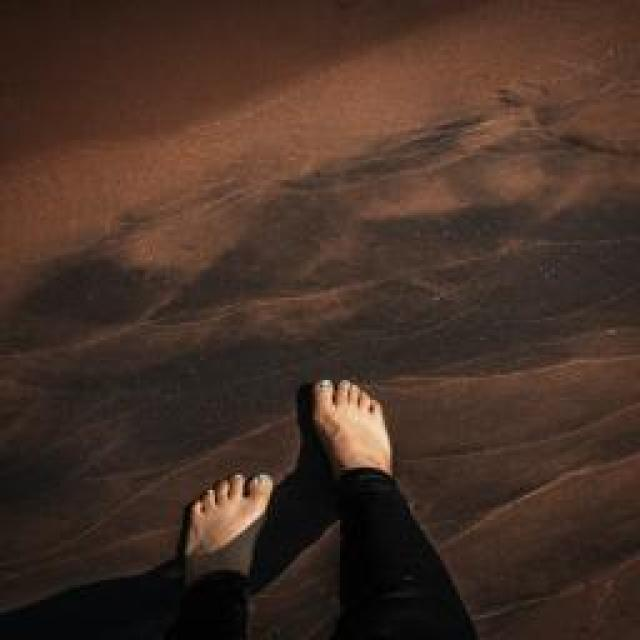Barefoots: (300, 370, 411, 531), (175, 464, 278, 607)
